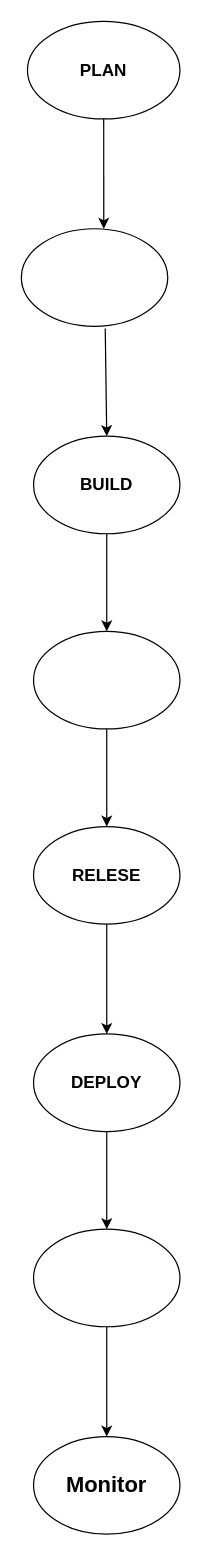
Image size: 201x1556. Some labels were removed from this diagram. Each missing label, with the centre of its shape:
DEVELOP: point 94,277
OPERATE: point 106,1277
TEST: point 106,679
